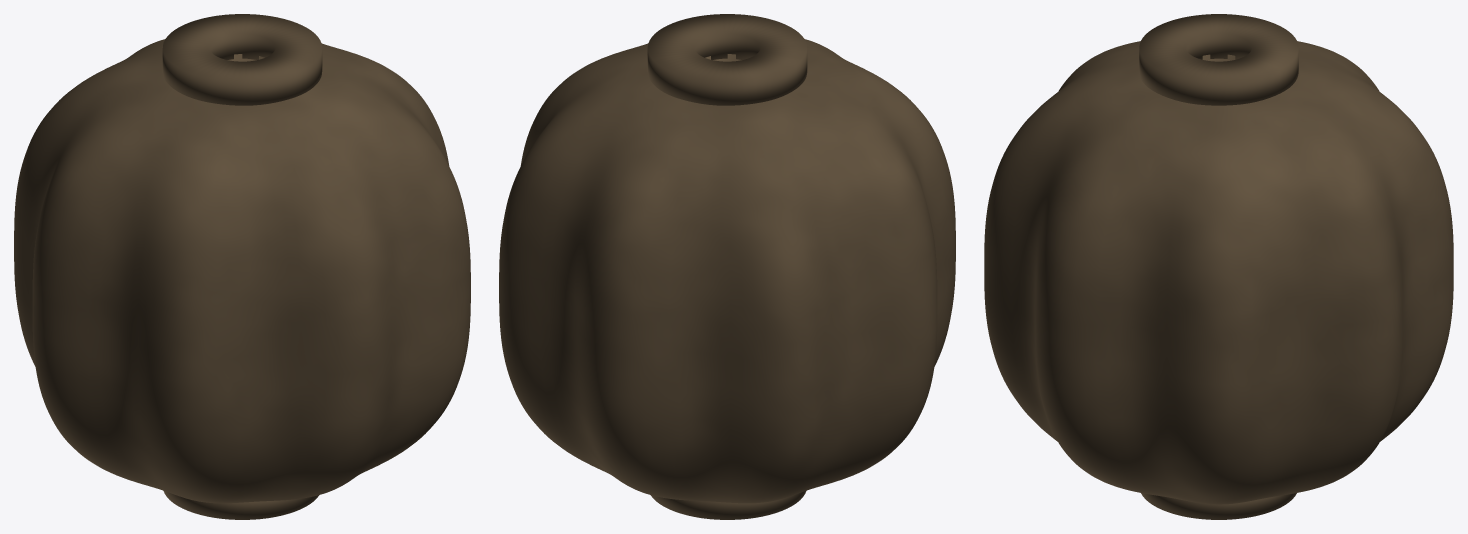
The model's file is lantern.glb.
3 views of the same model, side by side, from view 1: azimuth 30°, elevation 25°; view 2: azimuth 150°, elevation 25°; view 3: azimuth 270°, elevation 25° (orthographic).
Visible parts, largest first — view 1: lantern, collar.001, collar; view 2: lantern, collar.001, collar; view 3: lantern, collar.001, collar.
Part boxes in pixels (x1,y1,x2,y2): lantern: (14, 39, 470, 503); collar.001: (162, 14, 322, 105); collar: (163, 490, 319, 519); lantern: (499, 39, 955, 503); collar.001: (647, 14, 807, 105); collar: (650, 490, 806, 519); lantern: (984, 41, 1453, 504); collar.001: (1139, 14, 1298, 105); collar: (1141, 493, 1296, 519).
Size of the model in its own units: 0.00854 by 0.0088 by 0.00854.
